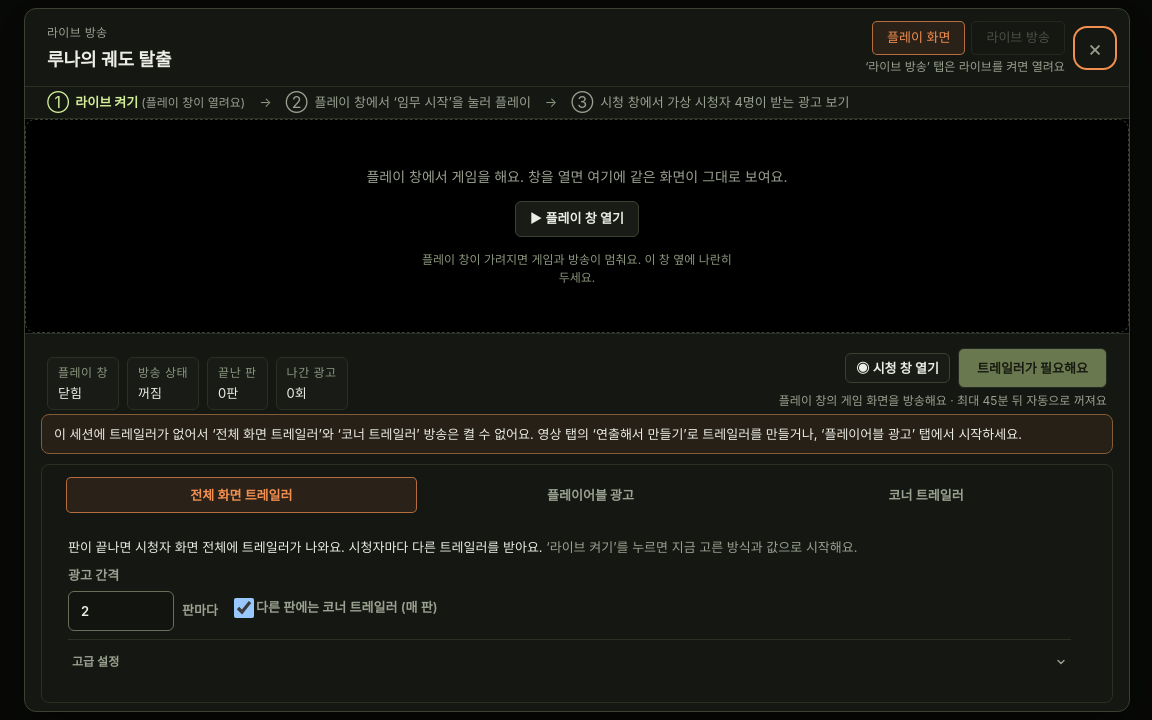
Test case: what stops a start is said where it is, with the way out (R20-48) › no trailer: above the ad styles, where one is made and which style needs none
The image size is (1152, 720).
expect the message with class "live-need" shows "이 세션에 트레일러가 없어서 ‘전체 화면 트레일러’와 ‘코너 트레일러’ 방송은 켤 수 없어요. 영상 탭의 ‘연출해서 만들기’로 트레일러를 만들거나, ‘플레이어블 광고’ 탭에서 시작하세요.": met, box [54,426,1022,442]
expect the button "트레일러가 필요해요" is disabled: met, box [958,348,1107,388]
Click the tab "플레이어블 광고" at (591, 495), box [423,477,758,513]
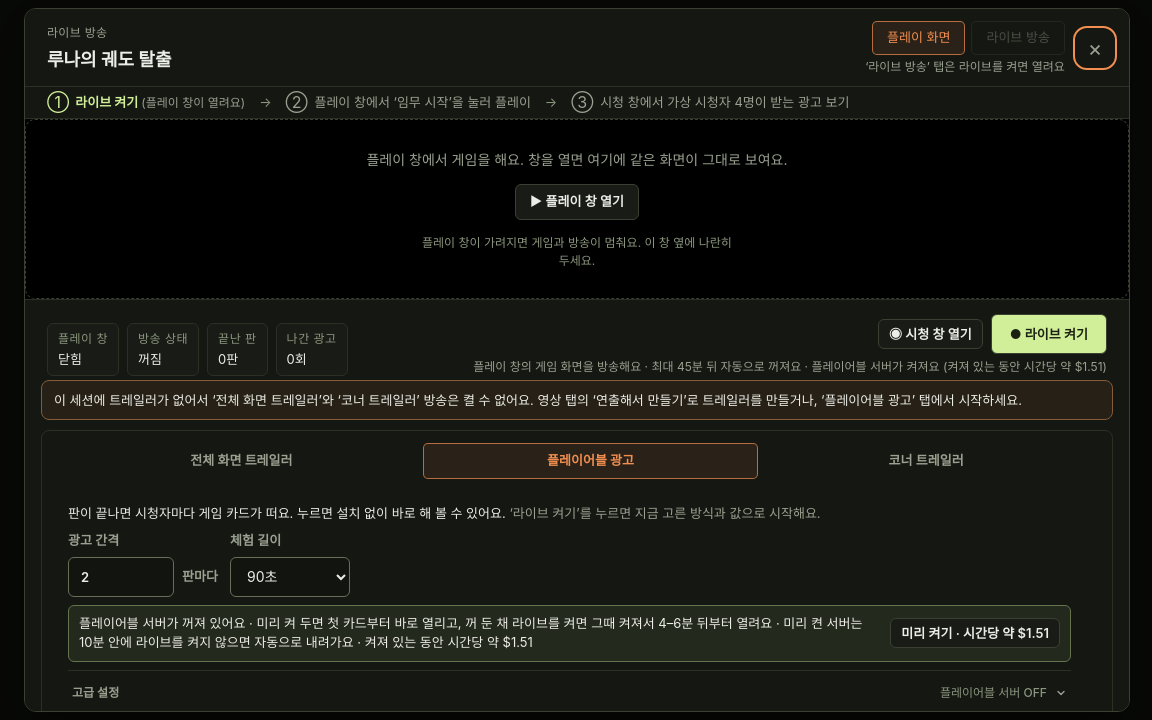
expect the button "● 라이브 켜기" is shown: met, box [991,314,1107,354]
expect the button "● 라이브 켜기" is enabled: met, box [991,314,1107,354]
